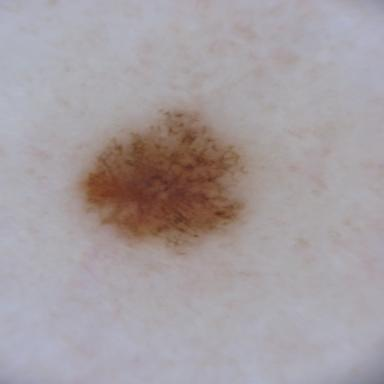nevus: (81, 111, 244, 252)
